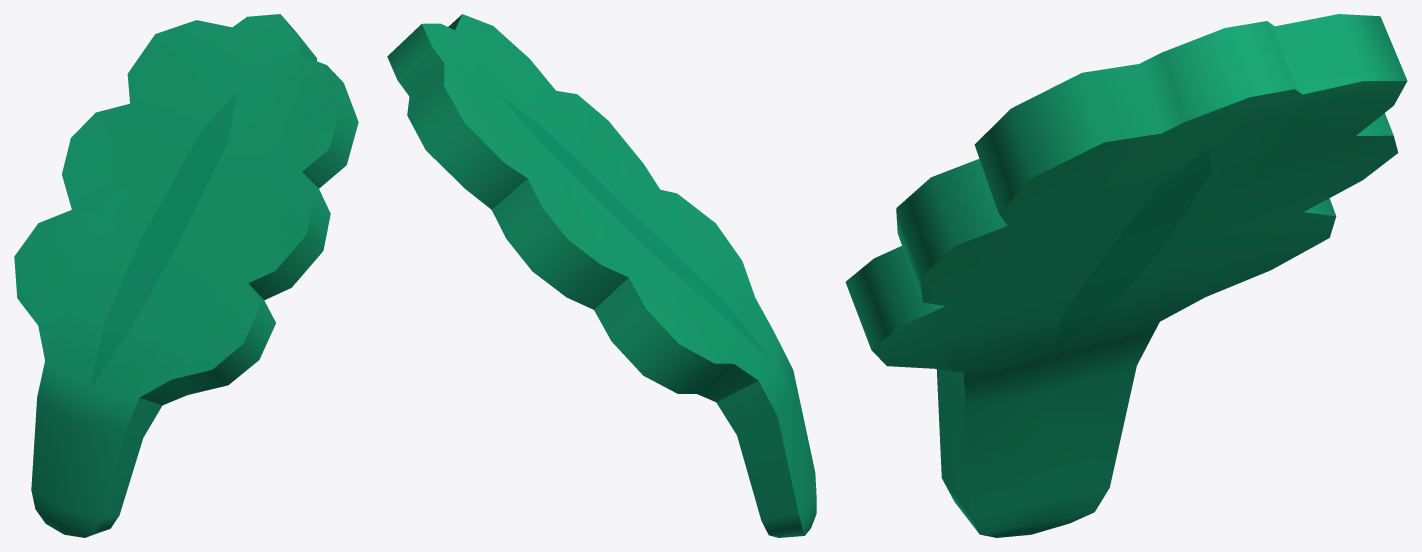
The model's file is CarrotLeaf5.fbx.
The picture shows the model from 3 angles, left to right: view 1: azimuth 30°, elevation 25°; view 2: azimuth 150°, elevation 25°; view 3: azimuth 270°, elevation 25°; orthographic projection. The views are drawn at different scales.
Parts seen in each view (by area): view 1: CarrotPlant2A_Leaf5; view 2: CarrotPlant2A_Leaf5; view 3: CarrotPlant2A_Leaf5.
Part boxes in pixels (box(x1,y1,x2,y2)): CarrotPlant2A_Leaf5: box(14, 14, 358, 537); CarrotPlant2A_Leaf5: box(387, 14, 816, 537); CarrotPlant2A_Leaf5: box(845, 14, 1407, 537).
Bounding box in the file's own units: 11.93 × 14.95 × 10.47.
